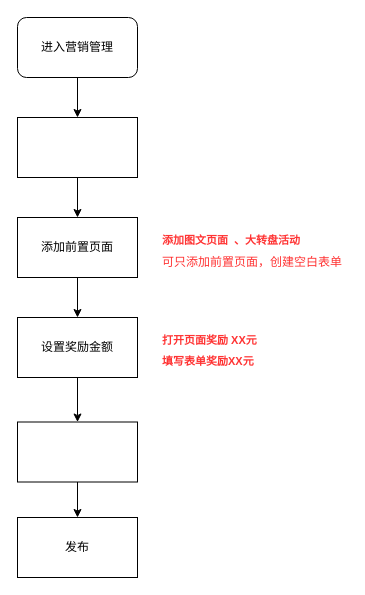
Some shapes in this 365 by 595 pixel diagram are drawn without their labels. The centre of each missing label's shape, as x and y in pixels:
"充值红包" goes at pixel 77 451.
"创建营销表单" goes at pixel 77 147.
